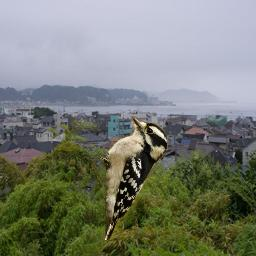Woodpecker: (100, 116, 168, 240)
